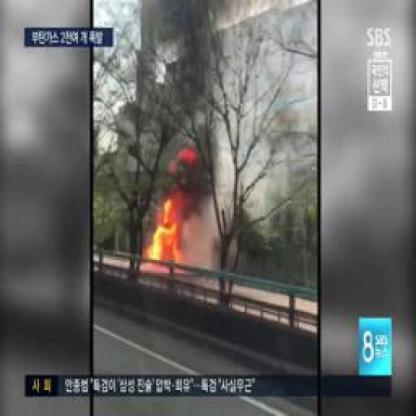fire: (140, 147, 198, 264)
